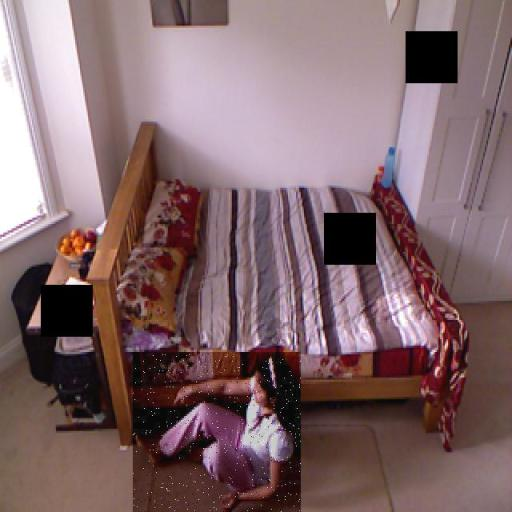Fall: (133, 352, 301, 512)
